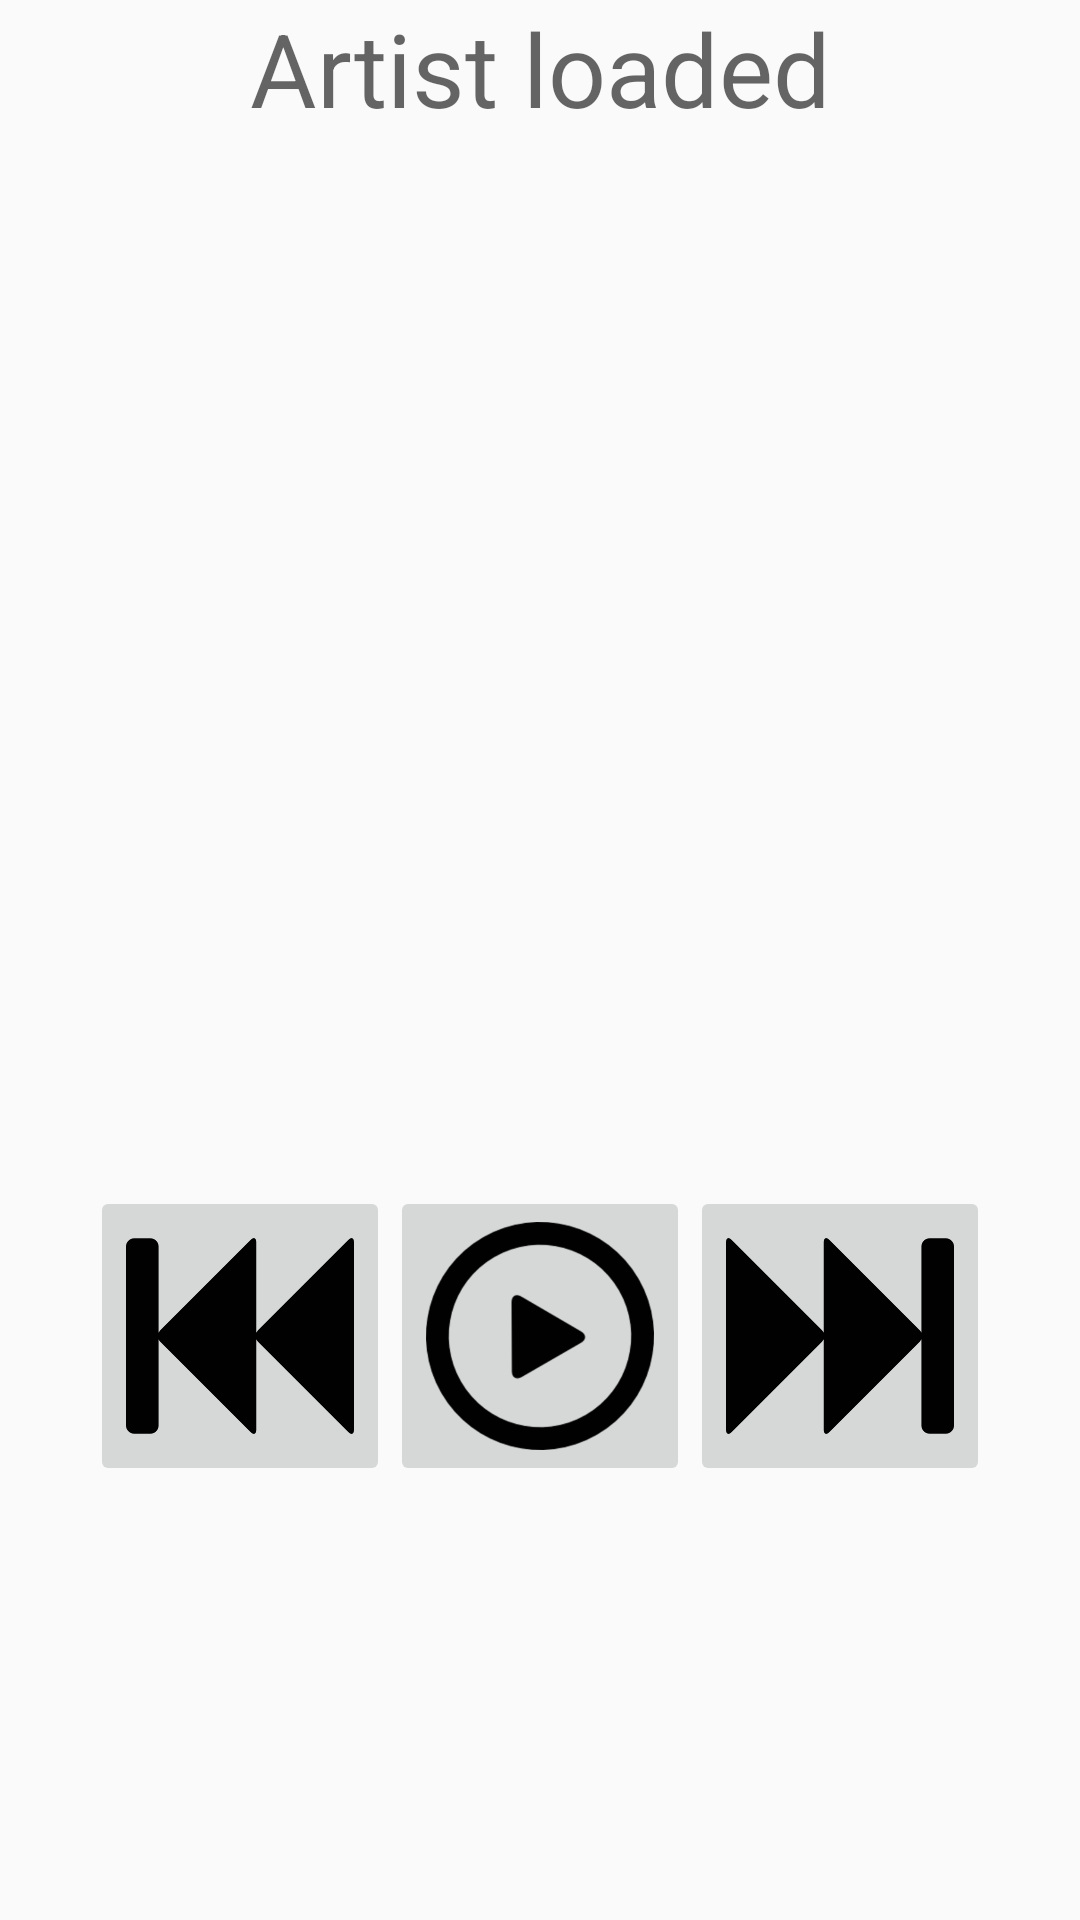

Point at icon controls on the screen. Image size 1080*1920, points as [x,y].
fast forward arrows: [840,1336]
play: [540,1336]
rewind forward arrows: [240,1336]
